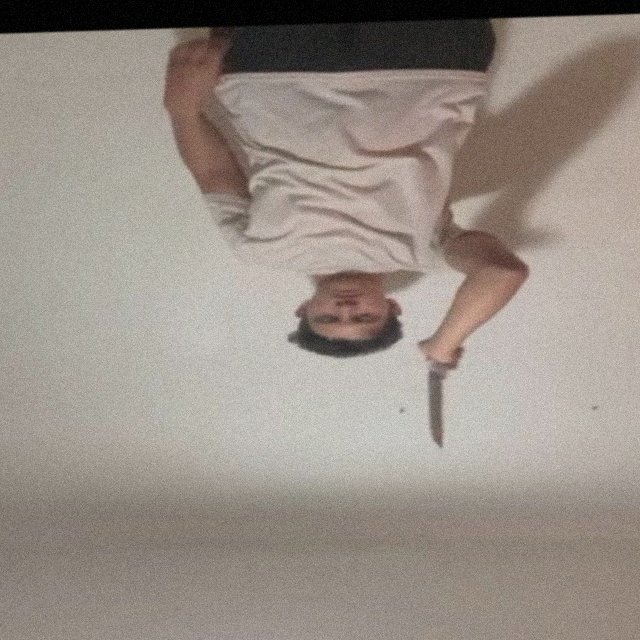Sharp-Object: (422, 367, 447, 449)
